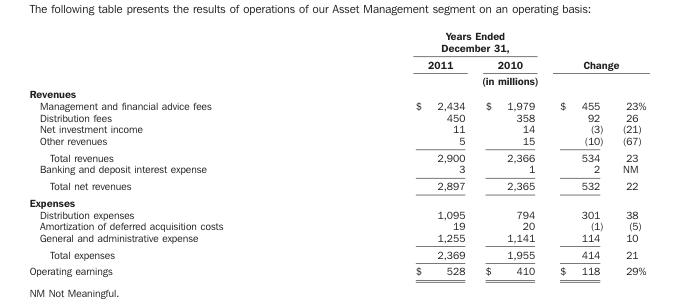table: (28, 29, 645, 276)
table column: (28, 29, 318, 276), (318, 29, 474, 276), (474, 29, 546, 276), (546, 29, 612, 276), (612, 29, 645, 276)
table column header: (28, 29, 645, 87)
table projected row header: (28, 193, 645, 207), (28, 87, 645, 99)
table row: (28, 29, 645, 55), (28, 55, 645, 72), (28, 176, 645, 193), (28, 245, 645, 262), (28, 72, 645, 87), (28, 134, 645, 148), (28, 148, 645, 162), (28, 162, 645, 176), (28, 193, 645, 207), (28, 231, 645, 245), (28, 262, 645, 276), (28, 87, 645, 99), (28, 99, 645, 111), (28, 122, 645, 134), (28, 207, 645, 219), (28, 219, 645, 231), (28, 111, 645, 122)
table spanning cell: (318, 29, 546, 55), (318, 72, 612, 87), (546, 29, 645, 72)
